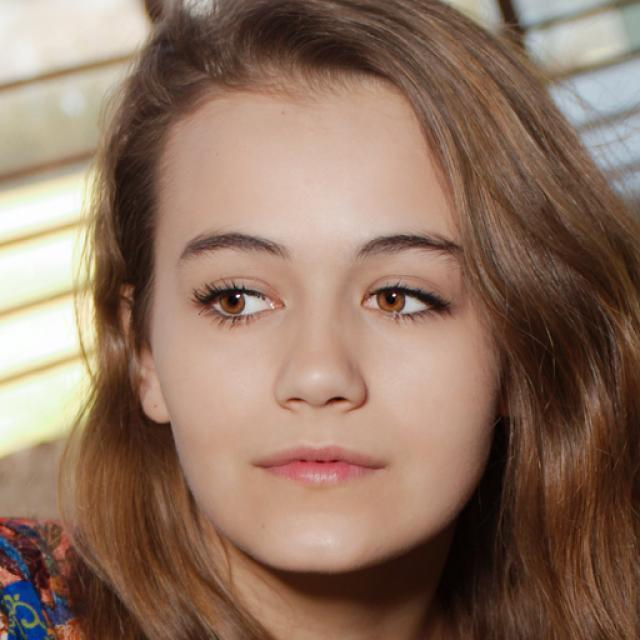neutral: (156, 69, 509, 579)
